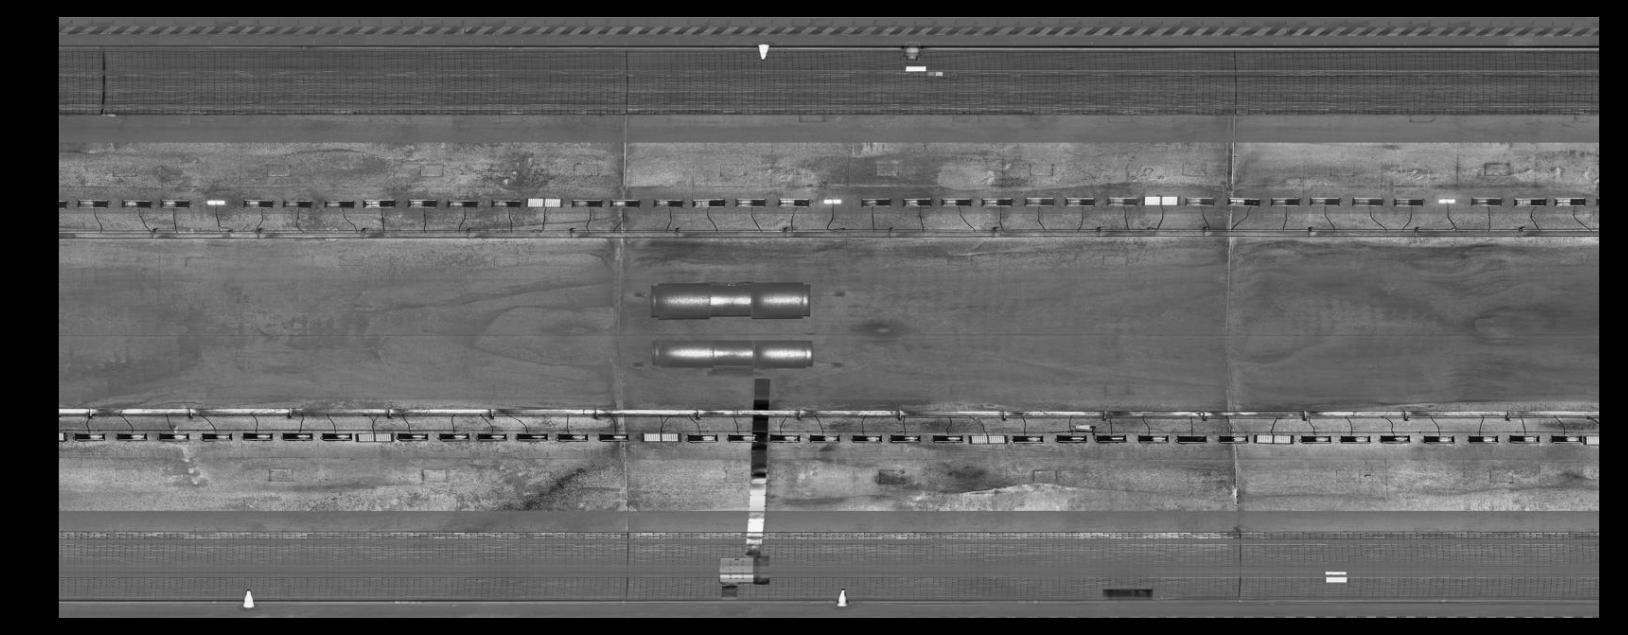light: (1251, 432, 1296, 446), (637, 430, 681, 444), (966, 432, 1008, 446), (358, 196, 398, 212), (525, 195, 565, 211), (1102, 193, 1141, 209), (354, 430, 396, 444), (567, 195, 604, 211), (977, 194, 1016, 209), (404, 195, 439, 211), (1510, 195, 1550, 209), (1060, 194, 1097, 209), (1225, 194, 1263, 209), (688, 196, 728, 210), (74, 195, 110, 210), (321, 197, 357, 212), (650, 195, 686, 210), (1307, 194, 1344, 209), (1349, 194, 1385, 209), (886, 431, 922, 445), (1142, 194, 1181, 208), (70, 429, 108, 442), (158, 196, 193, 211), (444, 196, 480, 211), (607, 195, 643, 210), (1022, 194, 1057, 209), (928, 430, 964, 444), (1092, 431, 1128, 445), (731, 195, 768, 209), (937, 195, 974, 209), (1551, 195, 1589, 209), (1374, 432, 1413, 444), (1464, 433, 1503, 445), (488, 197, 524, 211), (1182, 194, 1218, 208), (723, 431, 759, 444), (1173, 432, 1210, 445), (1215, 431, 1251, 444), (239, 197, 277, 210), (1467, 195, 1505, 208), (1419, 433, 1458, 445), (1505, 432, 1544, 444), (899, 196, 934, 210), (1267, 194, 1302, 208), (319, 429, 354, 442), (766, 432, 802, 445), (240, 430, 277, 442), (1336, 433, 1374, 445), (279, 197, 314, 211), (1391, 195, 1426, 209), (197, 430, 234, 442), (279, 430, 316, 442), (597, 431, 633, 443), (1052, 433, 1088, 445), (118, 197, 154, 210), (776, 195, 811, 208), (437, 430, 472, 442), (807, 432, 842, 444), (1009, 433, 1044, 445), (1298, 434, 1333, 446), (111, 431, 150, 442), (155, 431, 193, 442), (512, 431, 550, 442), (858, 196, 895, 208), (552, 431, 590, 442), (685, 432, 720, 444), (848, 432, 883, 444), (1134, 433, 1171, 444), (1547, 433, 1584, 444), (394, 431, 429, 442), (474, 431, 508, 441), (201, 196, 229, 208), (1433, 196, 1461, 206), (821, 196, 845, 208), (1584, 434, 1599, 445), (59, 195, 70, 211), (59, 427, 67, 444)
